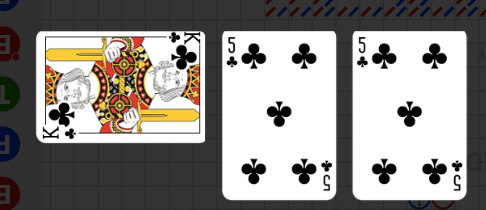5C: (225, 35, 239, 70), (449, 158, 463, 192)
KC: (40, 122, 81, 141)
